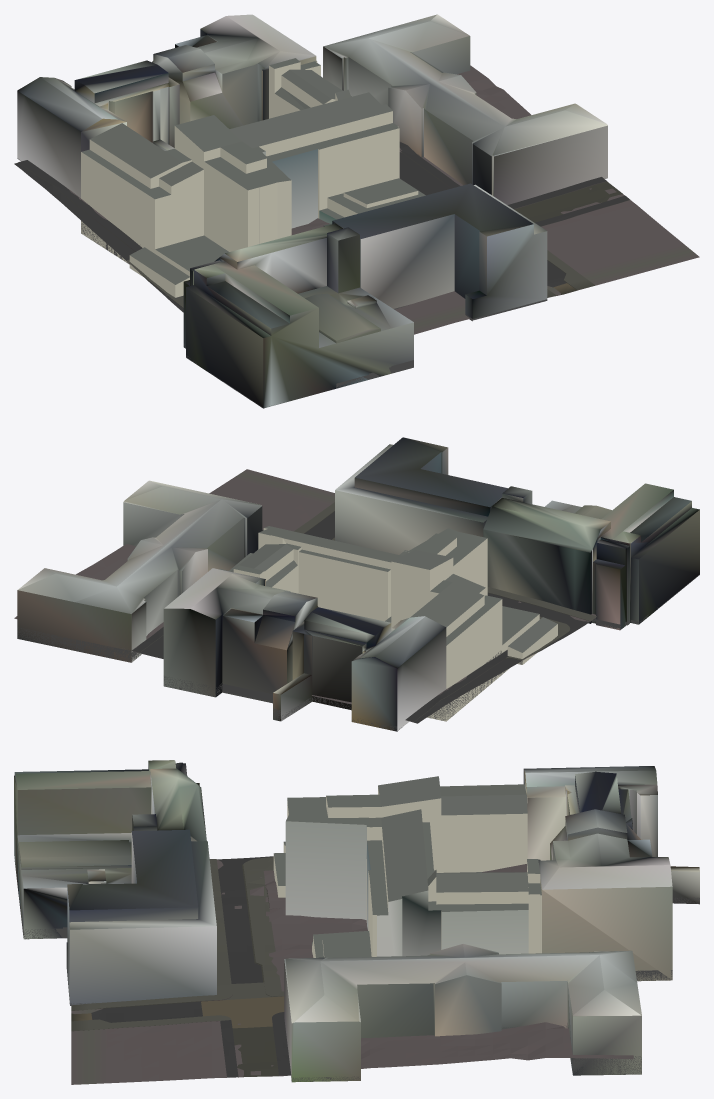
3 renders of one model, top to bottom at view 1: azimuth 30°, elevation 25°; view 2: azimuth 150°, elevation 25°; view 3: azimuth 270°, elevation 25°, orthographic. The views are drawn at different scales.
Visible parts, largest first — view 1: c_m02_m01; view 2: c_m02_m01; view 3: c_m02_m01.
Part boxes in pixels (x1,y1,x2,y2): c_m02_m01: (14, 14, 699, 408); c_m02_m01: (14, 437, 699, 731); c_m02_m01: (14, 760, 699, 1084).
Bounding box in the file's own units: 140 × 34.7 × 156.
